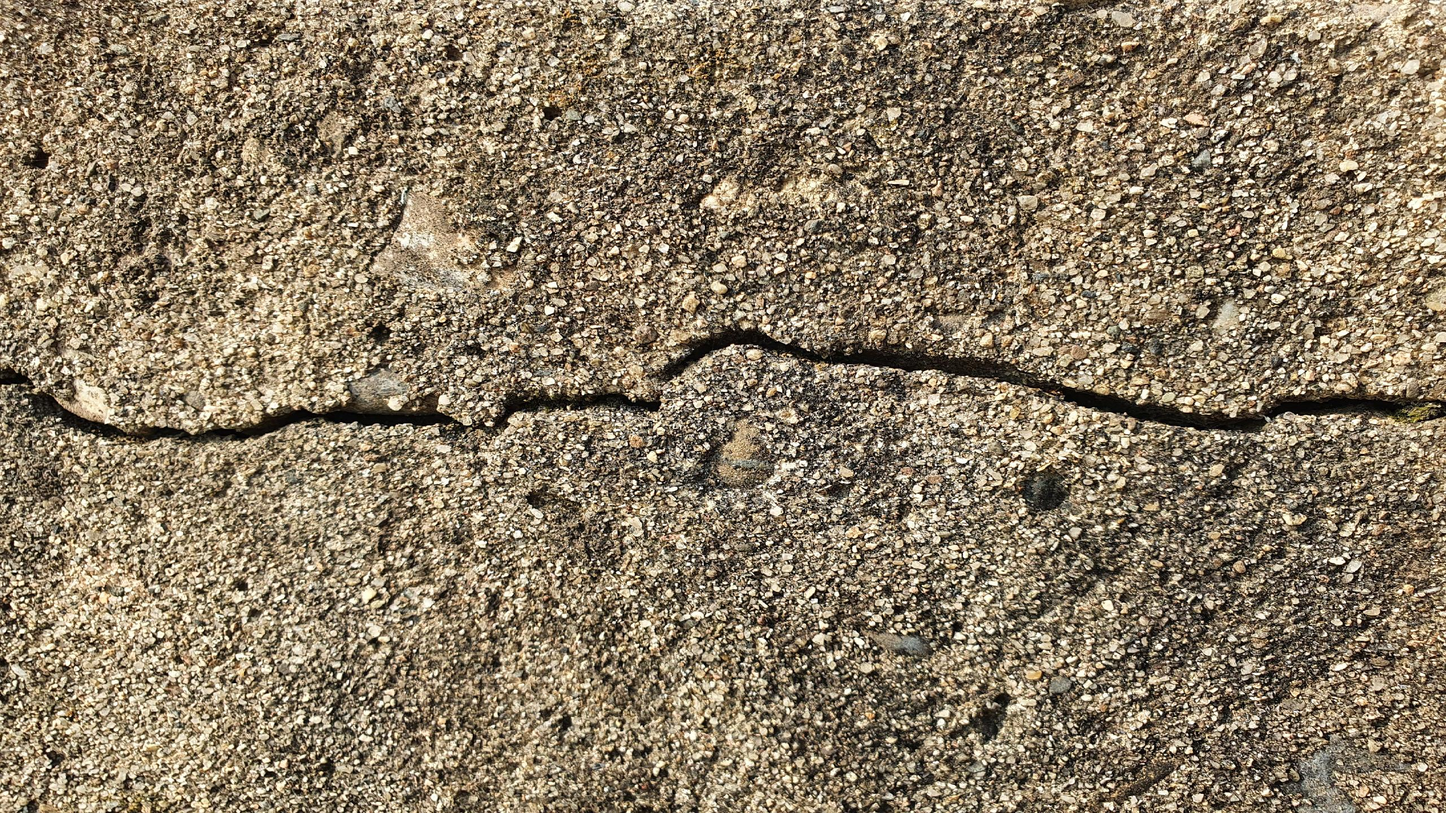crack: (0, 330, 1444, 442)
